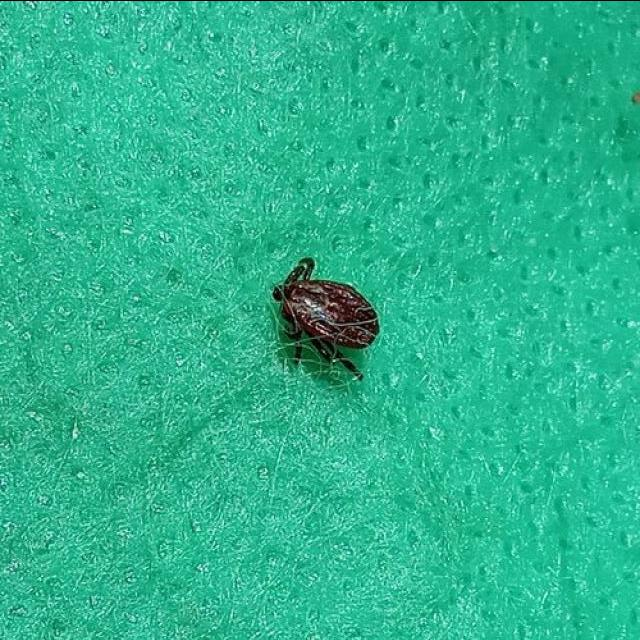Dermacentor Reticulatus-F: (271, 256, 379, 380)
